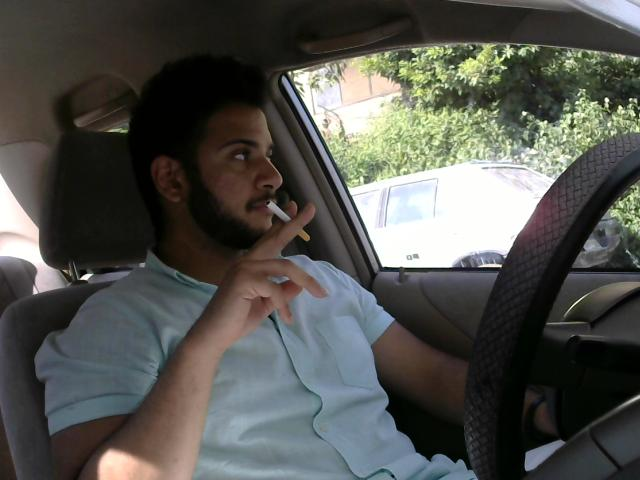Smoking: (261, 195, 316, 243)
